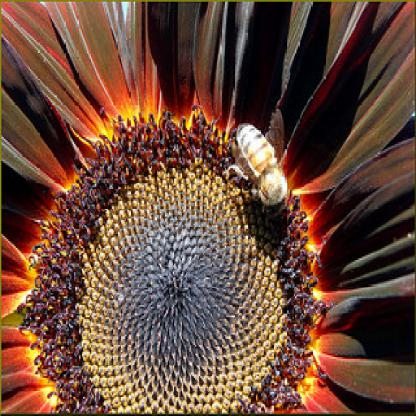SUN FLOWER: (11, 17, 356, 410)
